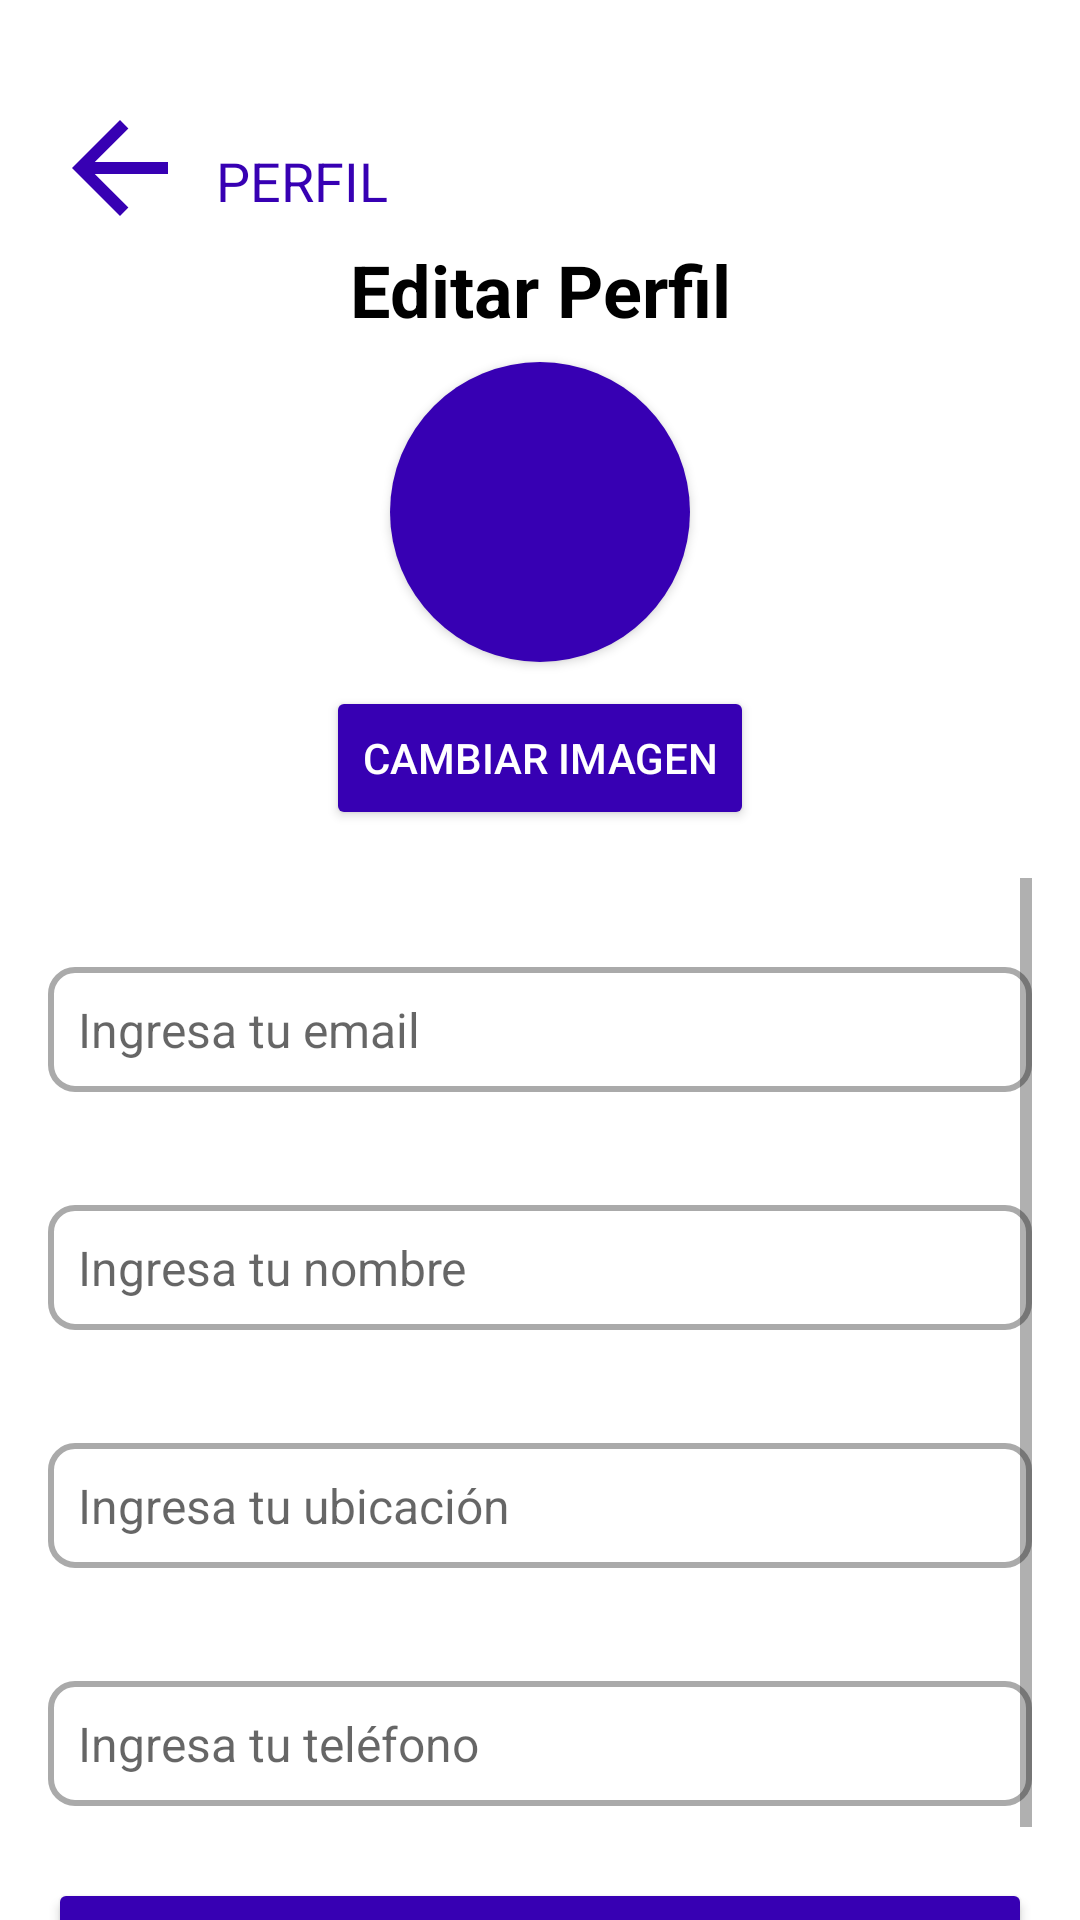

Icon click points for this 1080×1920 phone screenshot, format (x=x, y=y):
Retroceder: (x=120, y=168)
